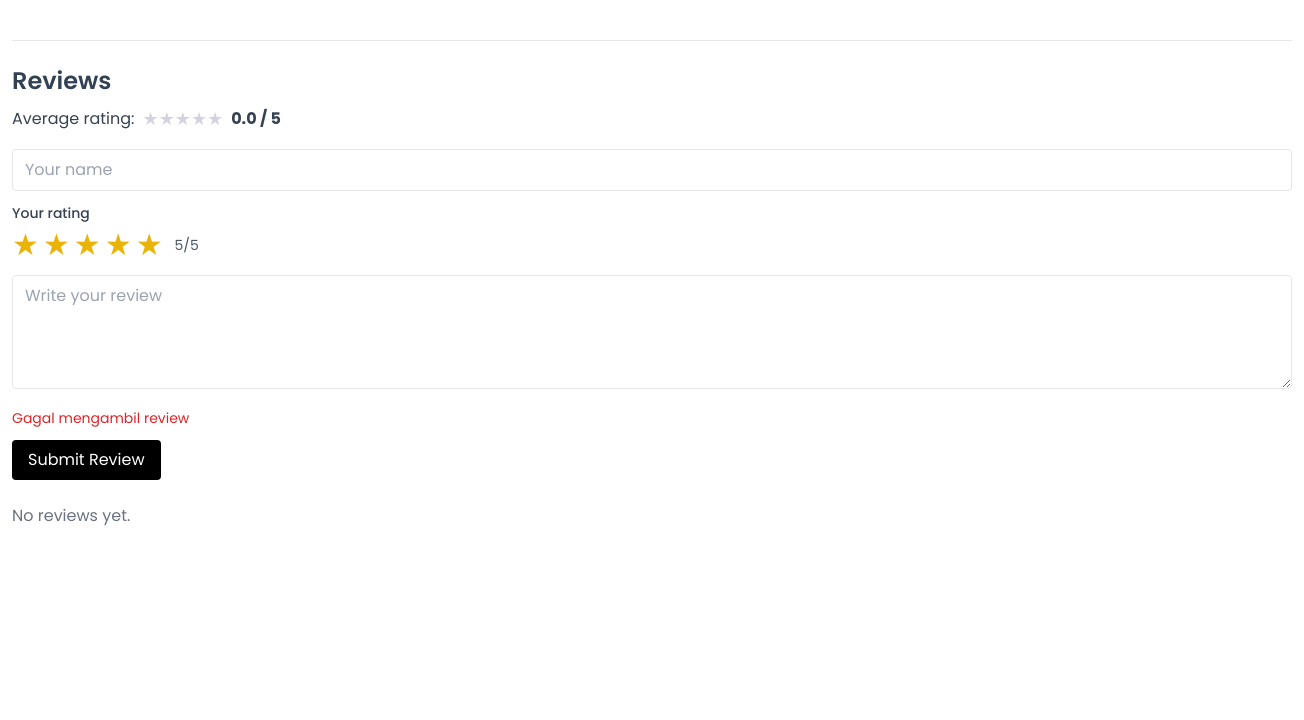
Test: ProductReviews › shows fetch and submit errors
The image size is (1304, 720).
(page scrolled)
Expected: the text "Gagal mengambil review" is shown, [12,408,189,428]
Step 1. Type "Valid comment" into the text box with placeholder "Write your review" → (652, 332), box [12,275,1292,389]
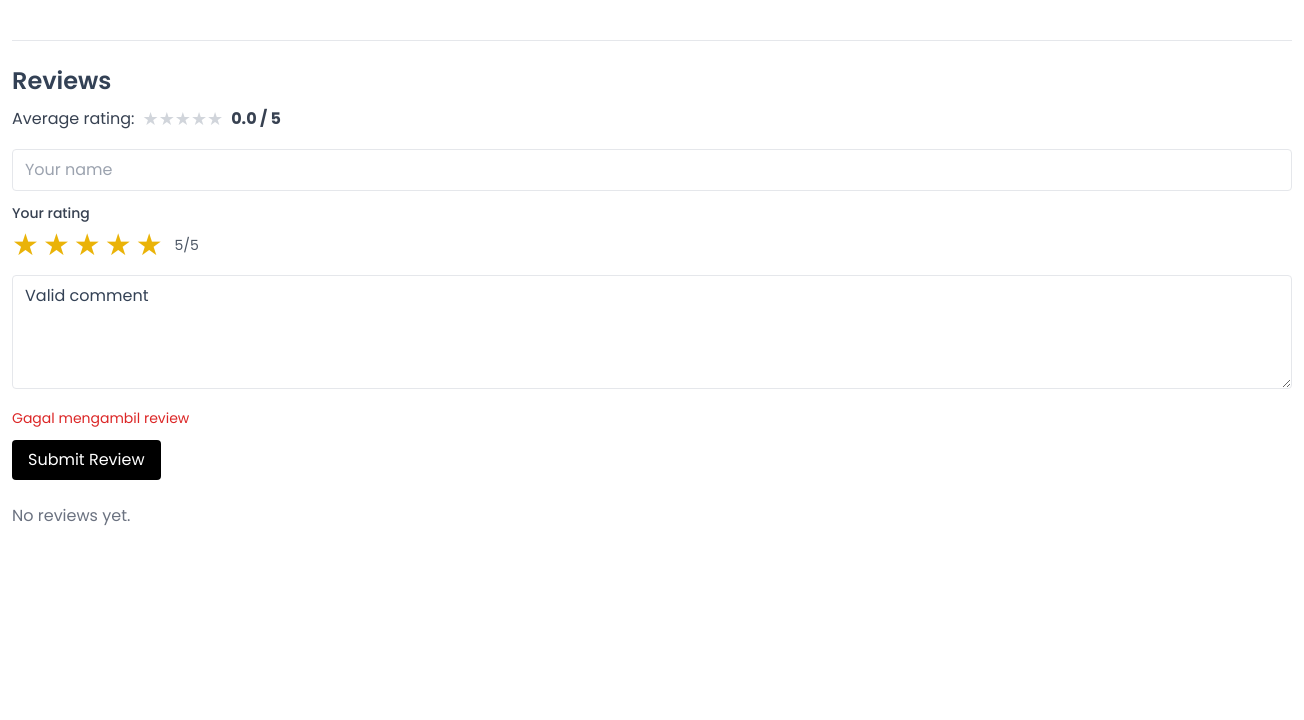
Step 2. Submit the form, box [12,149,1292,480]
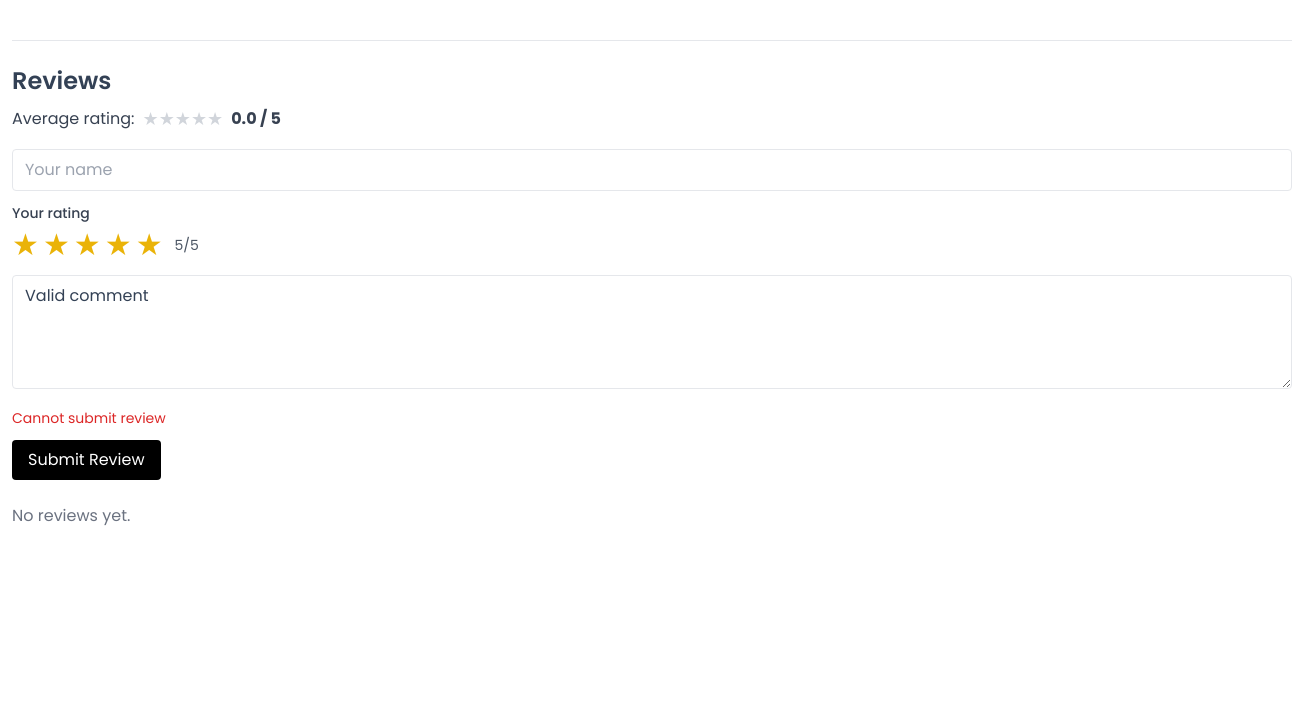
Result: the text "Cannot submit review" is shown at [12,408,166,428]
